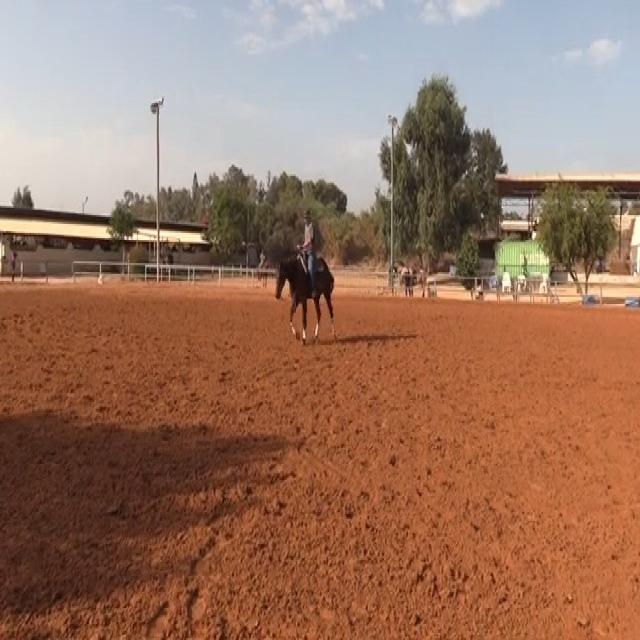horse: (273, 245, 338, 345)
